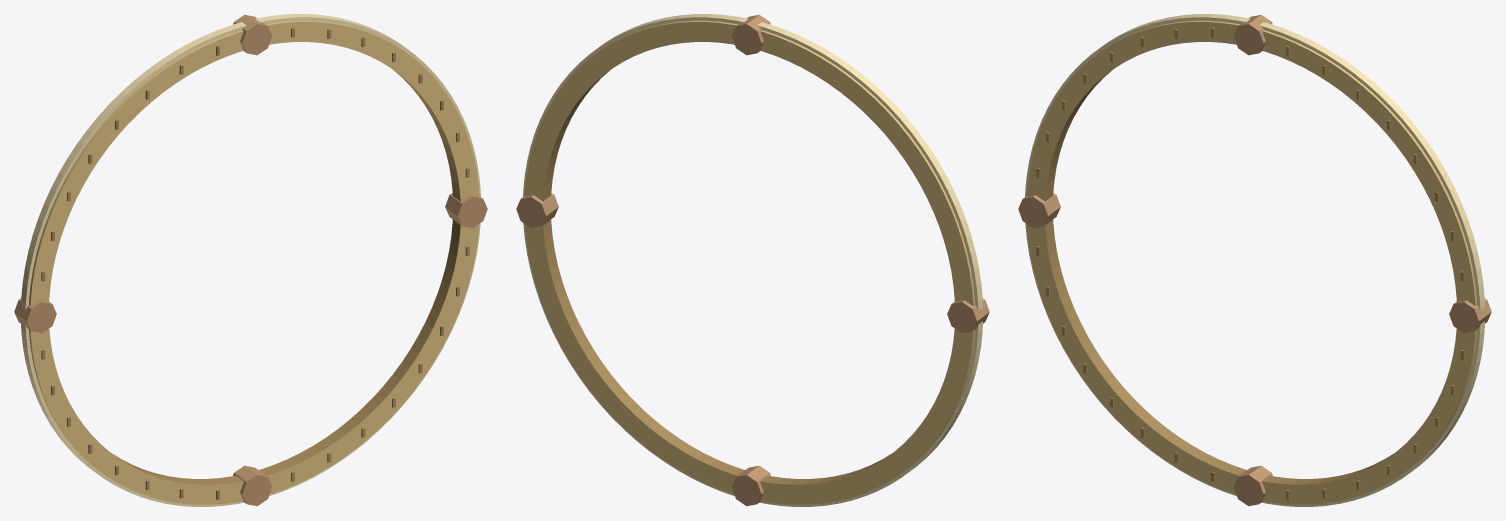
Rendered from Ring3.obj.
3 views of the same model, side by side, from view 1: azimuth 30°, elevation 25°; view 2: azimuth 150°, elevation 25°; view 3: azimuth 330°, elevation 25° (orthographic).
Parts seen in each view (by area): view 1: Ring3; view 2: Ring3; view 3: Ring3.
Part boxes in pixels (left/top/right/bottom): Ring3: left=14, top=14, right=487, bottom=506; Ring3: left=516, top=14, right=989, bottom=506; Ring3: left=1018, top=14, right=1491, bottom=506.
Bounding box in the file's own units: 16.26 × 16.26 × 0.78.
Materials: 1 (1 with a texture image).
